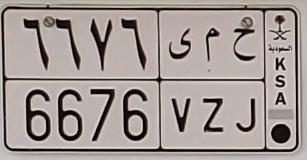6: (21, 17, 53, 142), (120, 16, 150, 142), (55, 18, 83, 142)
7: (88, 17, 116, 142)
J: (232, 27, 258, 134)
V: (168, 27, 192, 132)
Z: (202, 27, 225, 133)
